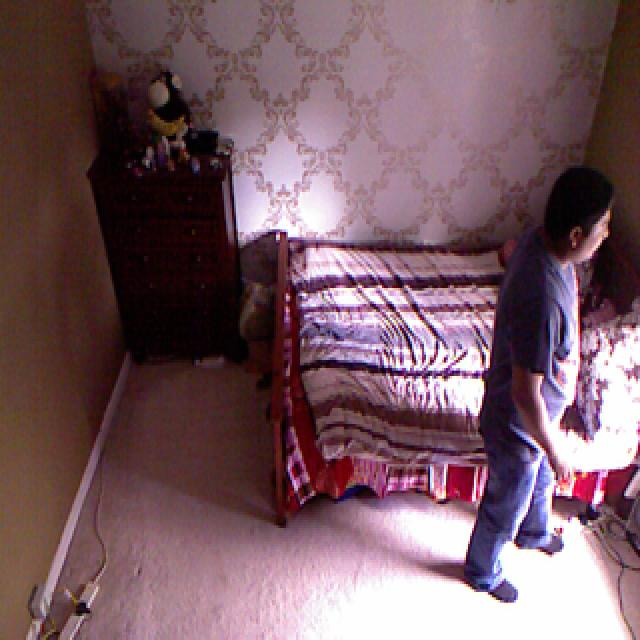standing: (463, 168, 617, 615)
